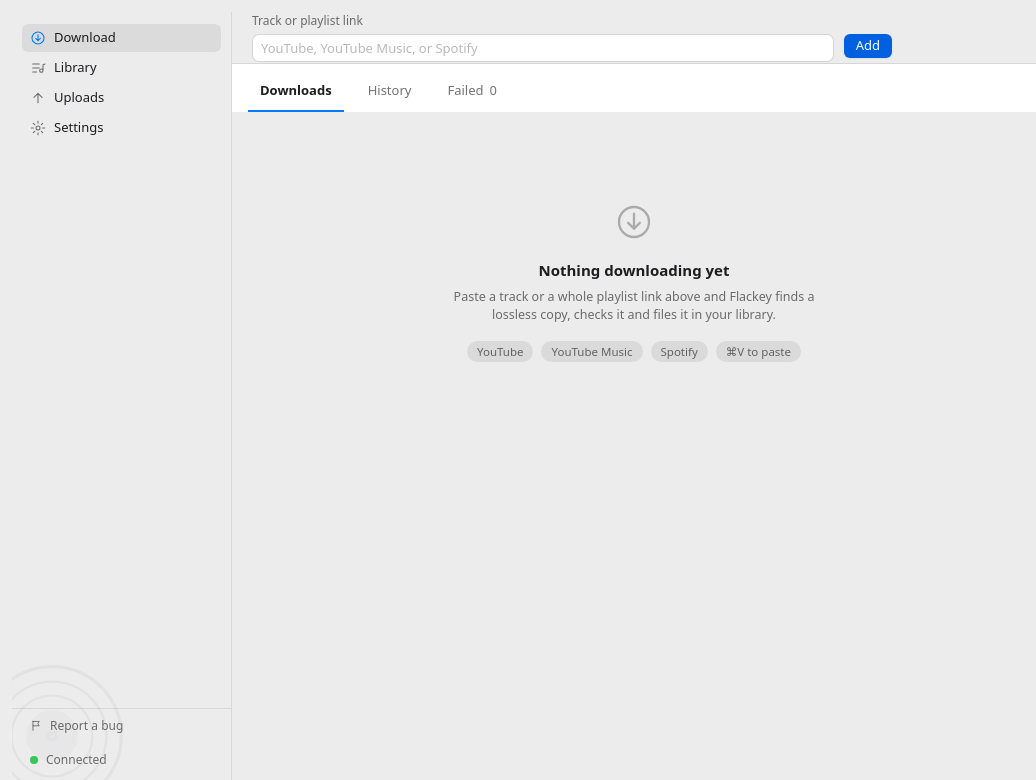
Scenario: losing Flackey itself (WEB-9) › says it is reconnecting on Library, not only on Download
The width and height of the screenshot is (1036, 780).
Check: the text "Connected" is shown, box x1=30 y1=752 x2=107 y2=768
What coordinates should you click on to do the following:
click the button "Library"
I would click on:
 (122, 68)
Its box is x1=22 y1=54 x2=221 y2=82.
Wait 5100 ms
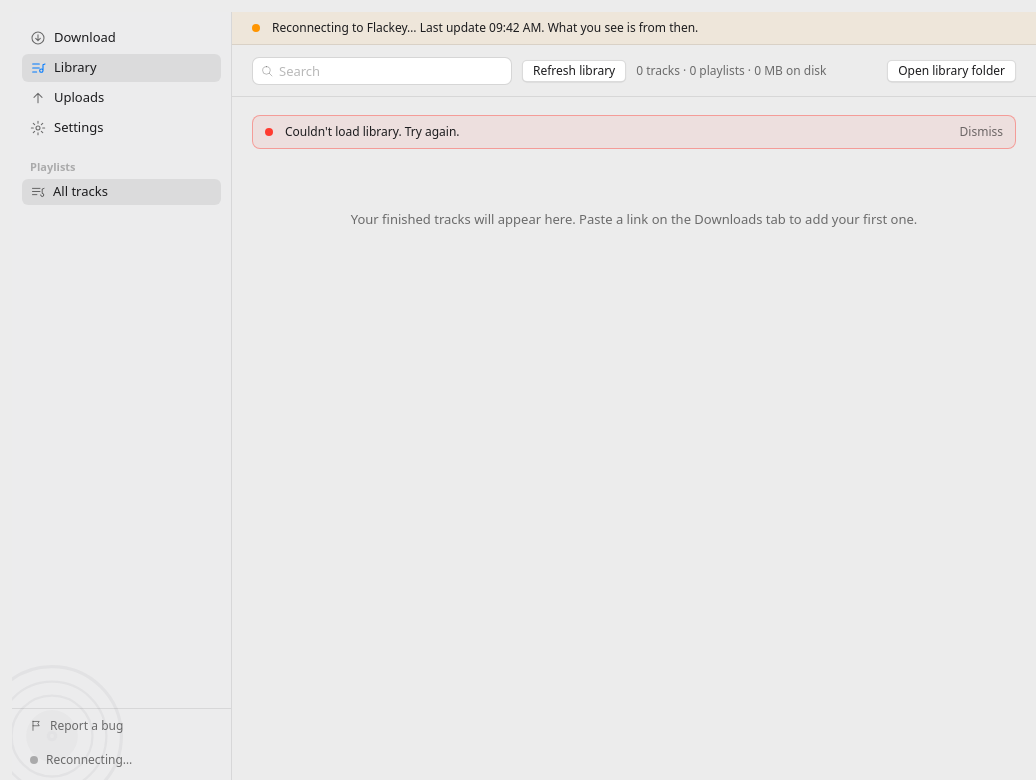
Check: the text "Reconnecting to Flackey… Last update" is shown, box x1=272 y1=19 x2=698 y2=36
